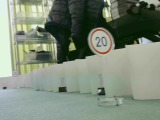speed_20: (86, 27, 114, 56)
